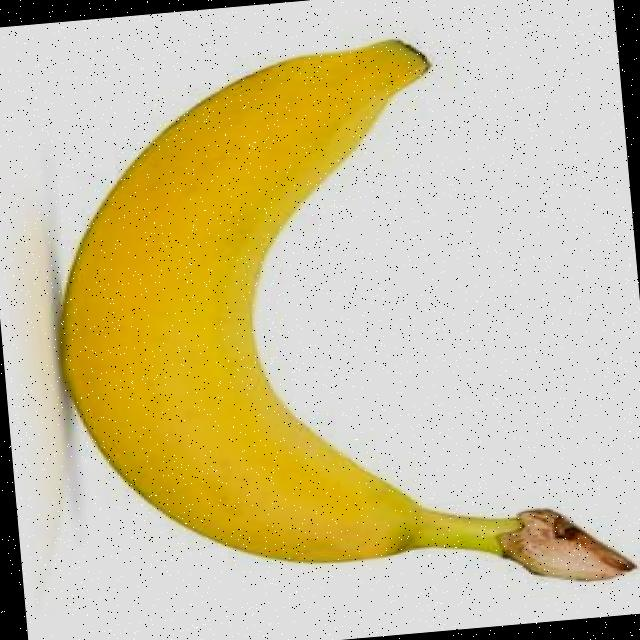Ripe: (31, 23, 534, 590)
